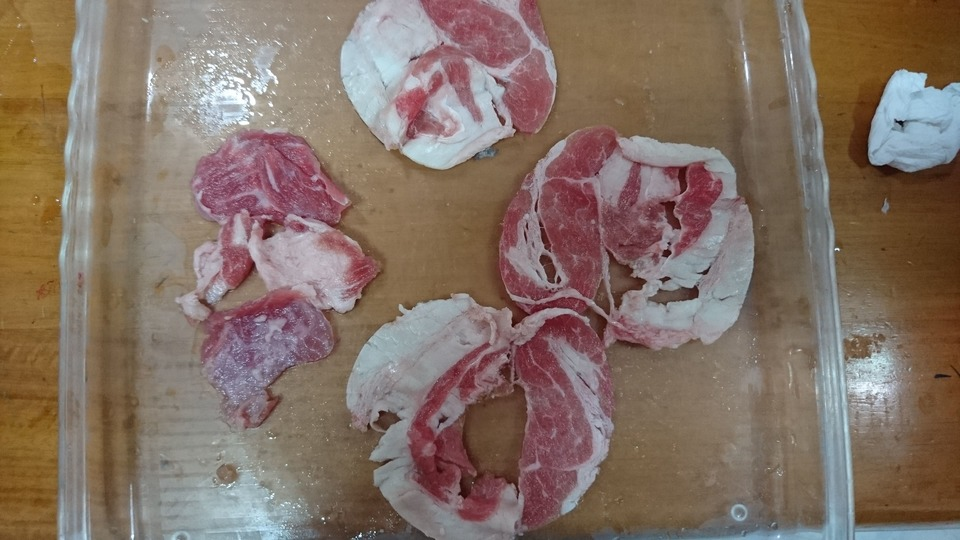restructured meat: (486, 119, 760, 360), (337, 293, 611, 534), (176, 123, 368, 435), (337, 1, 562, 176)
